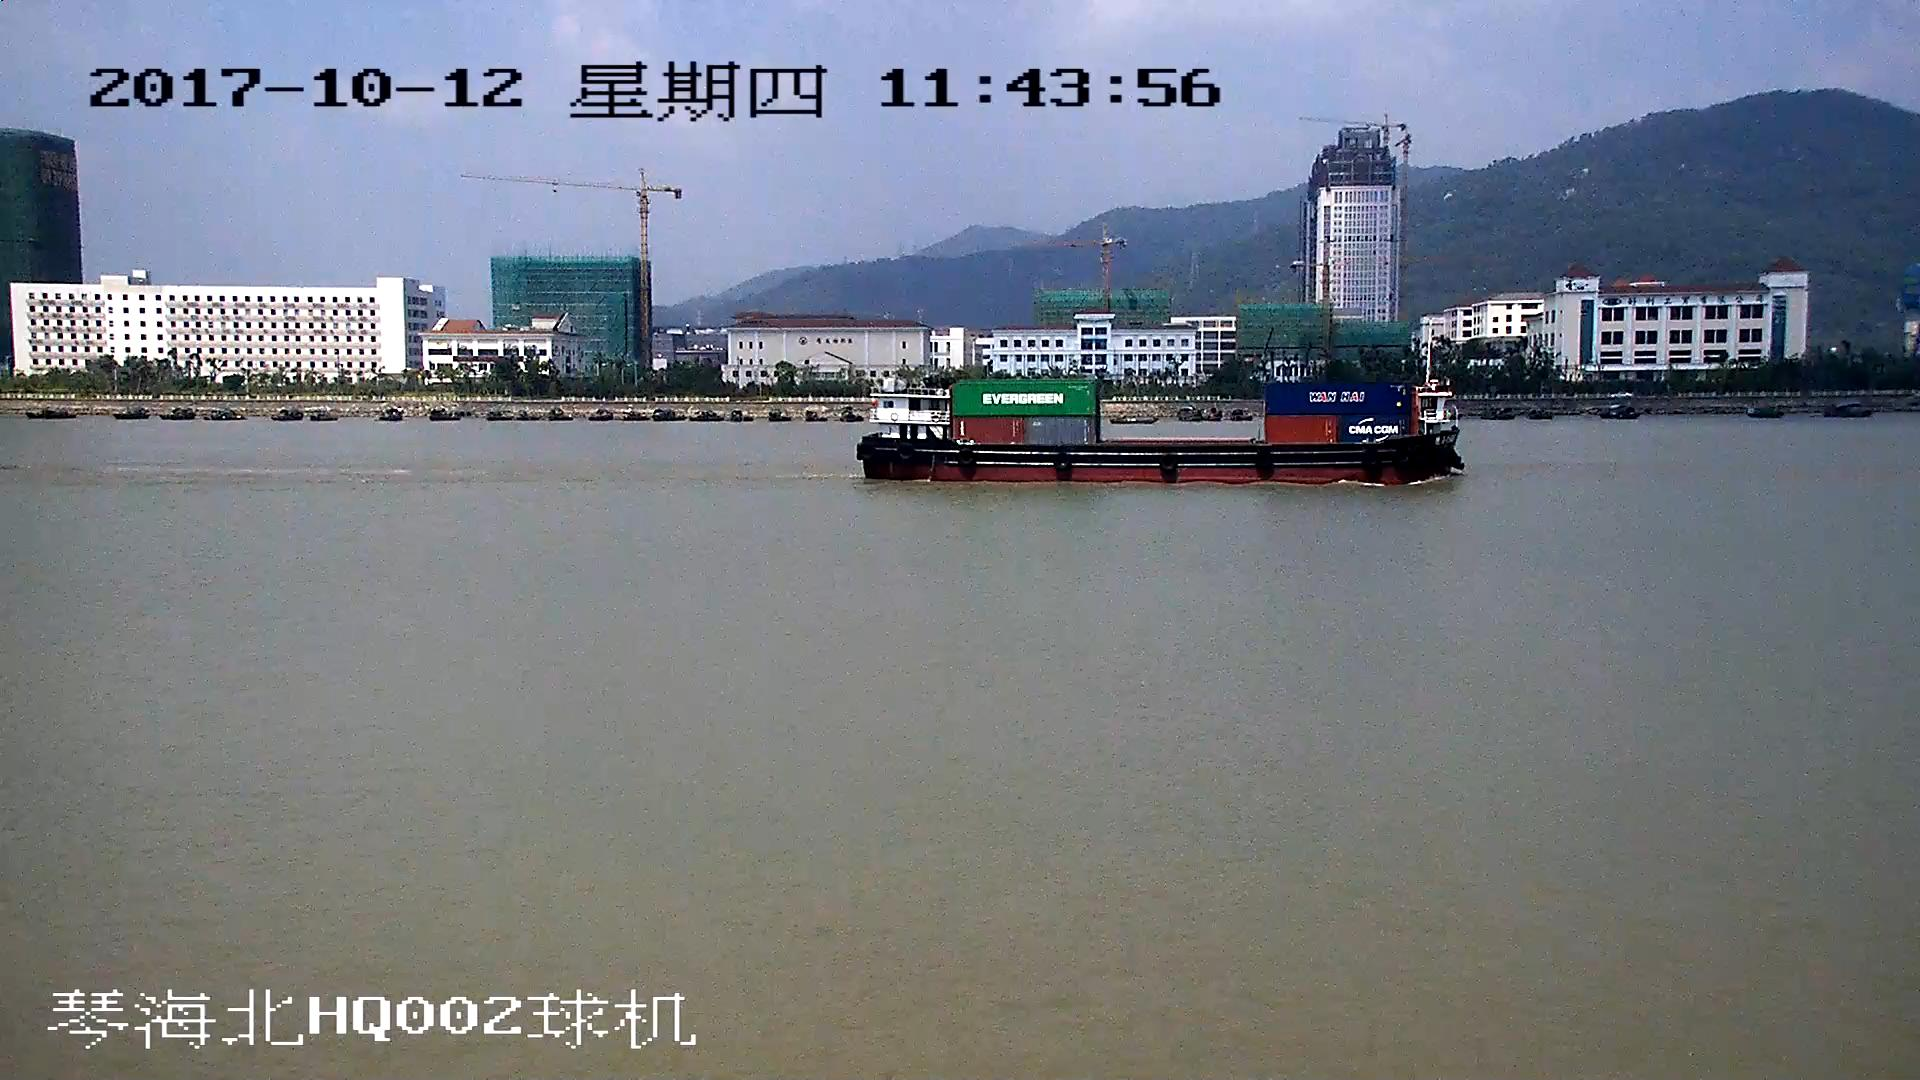container ship: (859, 378, 1469, 487)
